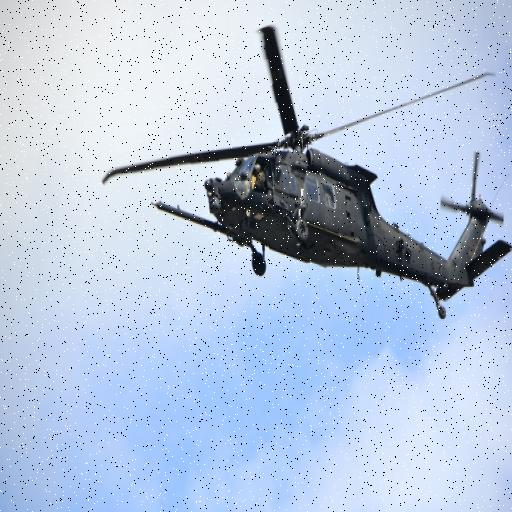helicopter: (104, 24, 512, 320)
